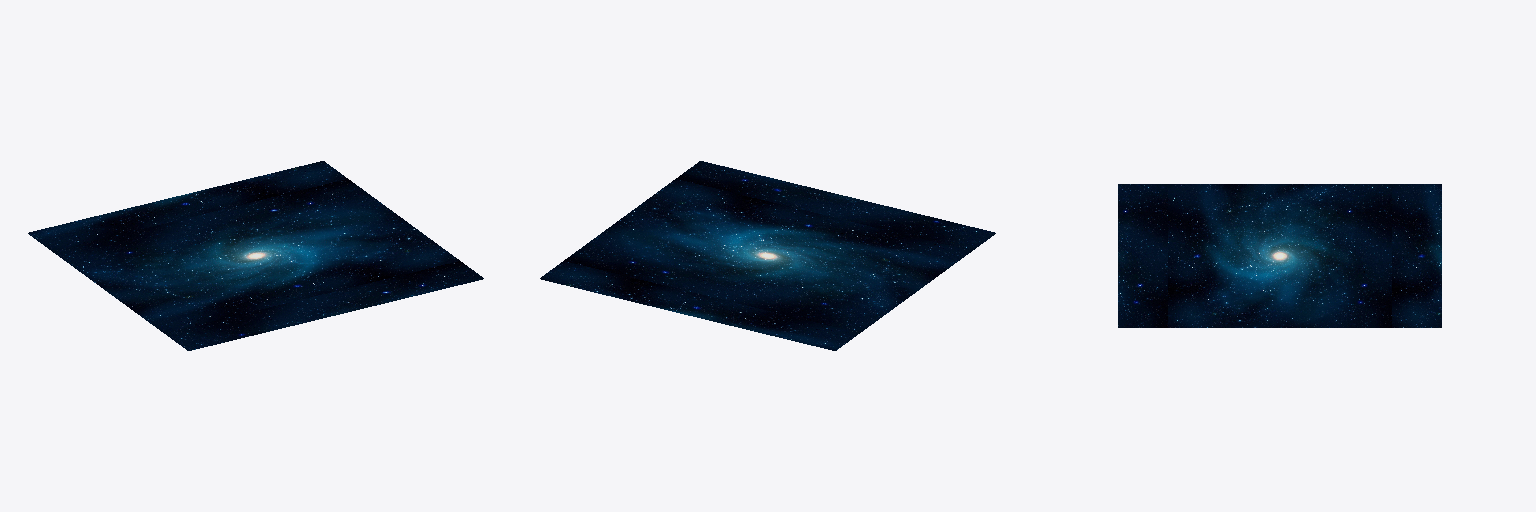
The picture shows the model from 3 angles: view 1: azimuth 30°, elevation 25°; view 2: azimuth 150°, elevation 25°; view 3: azimuth 270°, elevation 25°; orthographic projection.
Visible parts, largest first — view 1: Plane; view 2: Plane; view 3: Plane.
Boxes of the visible parts, x1=… form: Plane: x1=28, y1=161, x2=483, y2=350; Plane: x1=540, y1=161, x2=995, y2=350; Plane: x1=1118, y1=184, x2=1441, y2=327.
Bounding box in the file's own units: 55.61 × 0 × 52.52.
Materials: 1 (1 with a texture image).